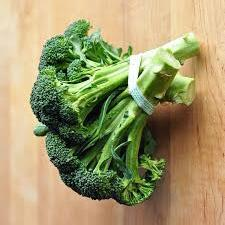broccoli: (29, 17, 200, 206)
